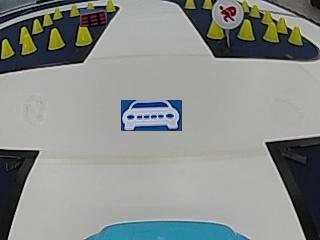thief: (211, 1, 244, 29)
